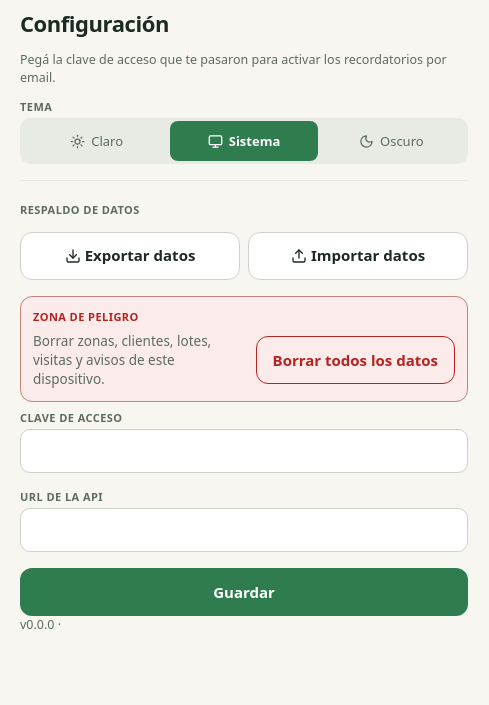
Test case: ConfigScreen › submit vacío muestra error
Click the button "Guardar" at [244, 592], box [20,568,468,616]
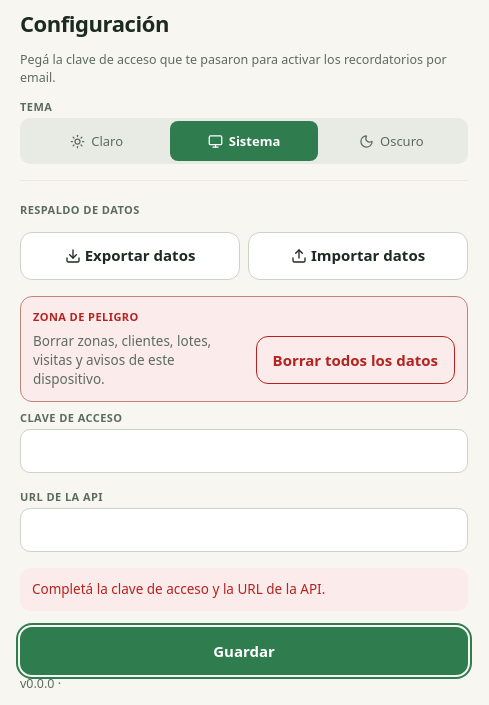
Now the message shows "Completá la clave", box [32,580,325,598]
